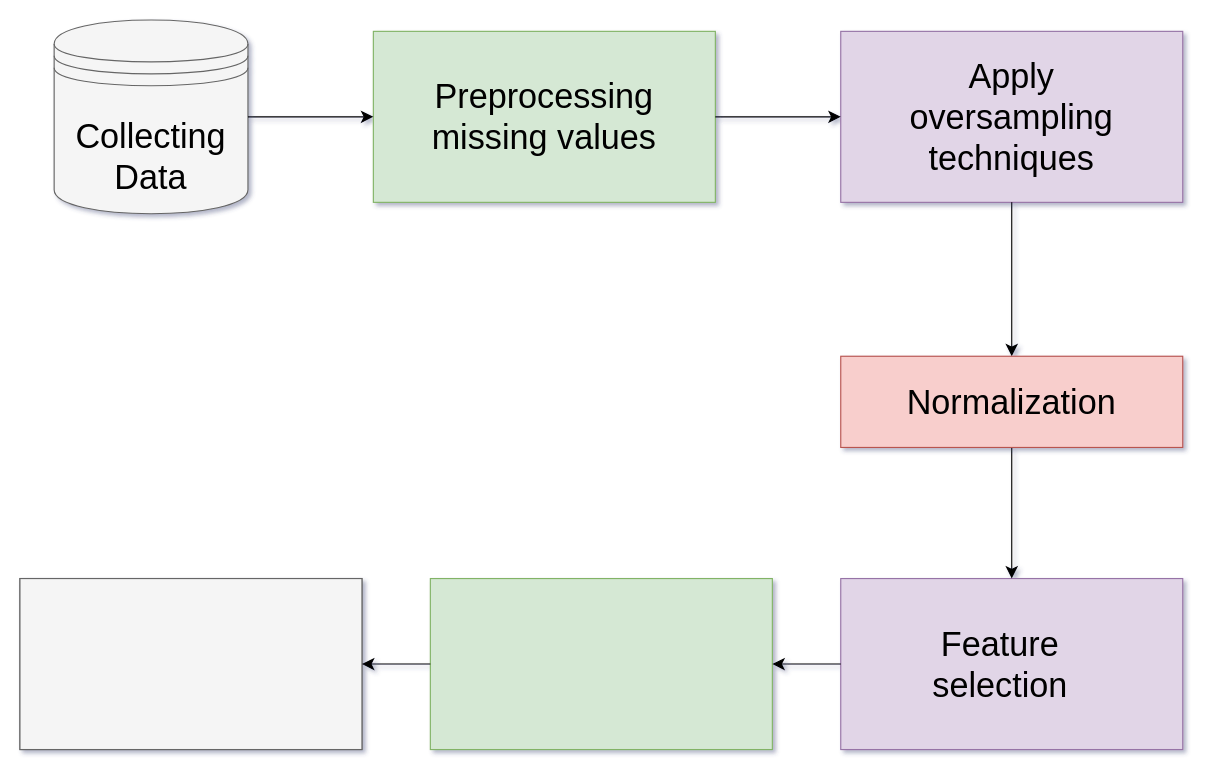
Image size: 1210x776. Some labels were removed from this diagram. The box of each missing label's shape, as (x1, y1, x2, y2) in pixels:
Machine learning based classifiers: (429, 577, 772, 750)
Validation with performance measure: (19, 577, 362, 750)
